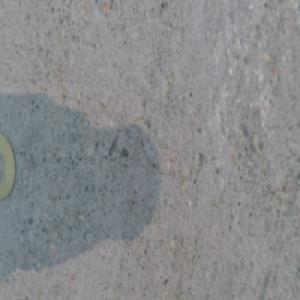Washer: (0, 134, 21, 199)
